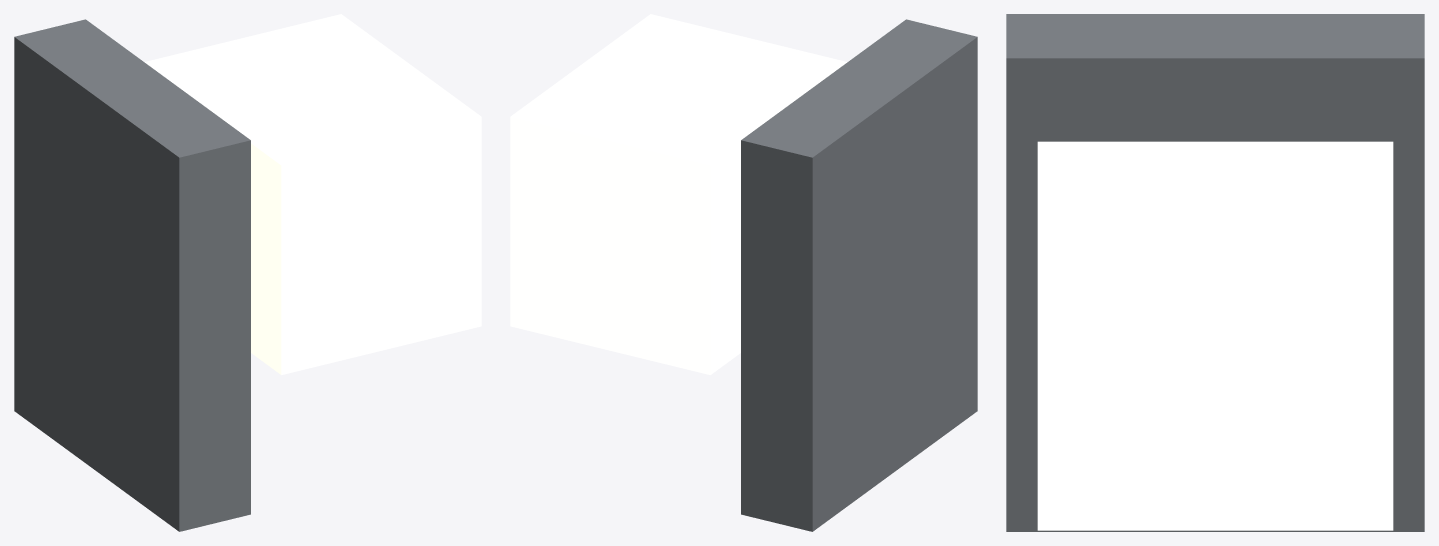
Rendered from WallLight.glb.
3 renders of one model, left to right at view 1: azimuth 30°, elevation 25°; view 2: azimuth 150°, elevation 25°; view 3: azimuth 270°, elevation 25°, orthographic. The views are drawn at different scales.
Visible parts, largest first — view 1: model; view 2: model; view 3: model.
Boxes of the visible parts, x1,y1,x2,y2 form: model: (14, 14, 481, 531); model: (510, 14, 977, 531); model: (1006, 14, 1424, 531).
Bounding box in the file's own units: 0.44 × 0.5 × 0.4.
